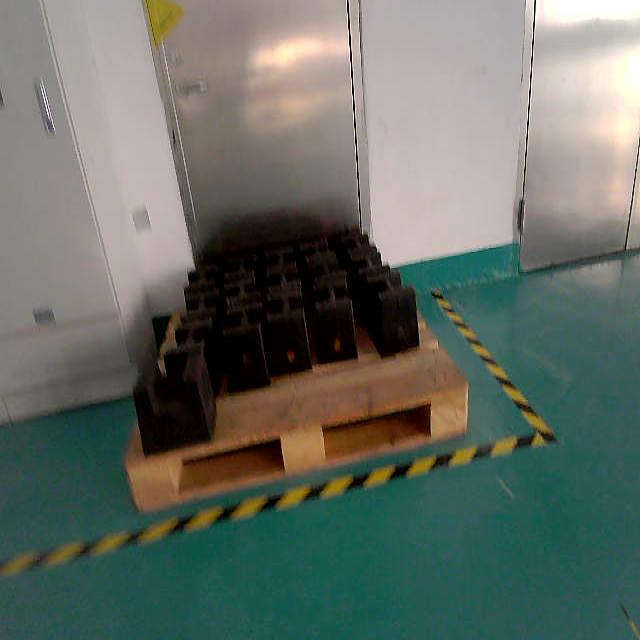euro: (125, 228, 468, 511)
